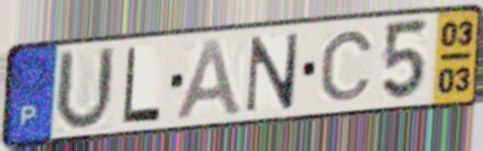5: (381, 15, 432, 104)
A: (173, 38, 246, 123)
C: (318, 29, 376, 104)
L: (120, 44, 164, 126)
N: (242, 30, 303, 116)
U: (51, 44, 118, 135)
